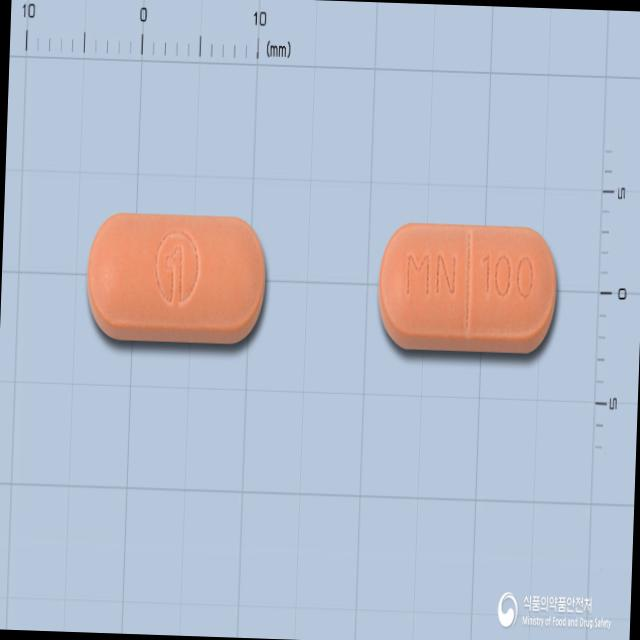Monocin: (376, 222, 560, 356), (84, 211, 268, 343)
